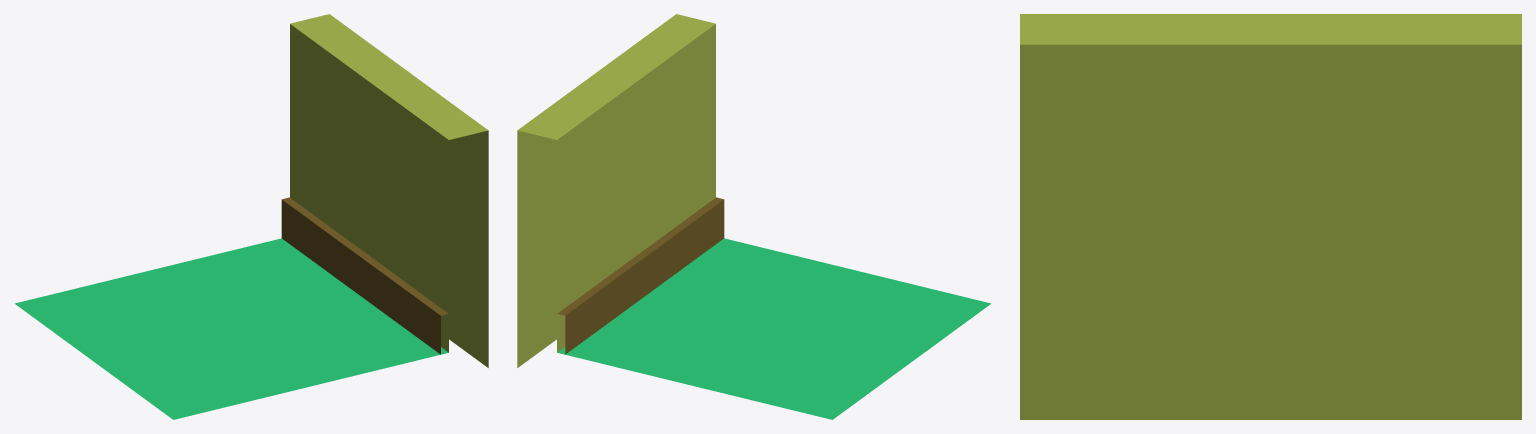
Rendered from ModuleSC_Terr_centerB001.FBX.
3 renders of one model, left to right at view 1: azimuth 30°, elevation 25°; view 2: azimuth 150°, elevation 25°; view 3: azimuth 270°, elevation 25°, orthographic. The views are drawn at different scales.
Visible parts, largest first — view 1: ModuleSC_Terr_wall_005, ModuleSC_Terr_floo_007, ModuleSC_Terr_floo_006, ModuleSC_Terr_skboard_005; view 2: ModuleSC_Terr_wall_005, ModuleSC_Terr_floo_007, ModuleSC_Terr_floo_006, ModuleSC_Terr_skboard_005; view 3: ModuleSC_Terr_wall_005.
Boxes of the visible parts, x1,y1,x2,y2 form: ModuleSC_Terr_wall_005: [290, 14, 488, 367]; ModuleSC_Terr_floo_007: [14, 270, 310, 419]; ModuleSC_Terr_floo_006: [152, 238, 448, 386]; ModuleSC_Terr_skboard_005: [281, 197, 448, 354]; ModuleSC_Terr_wall_005: [517, 14, 715, 367]; ModuleSC_Terr_floo_007: [695, 270, 991, 419]; ModuleSC_Terr_floo_006: [557, 238, 853, 386]; ModuleSC_Terr_skboard_005: [557, 197, 724, 354]; ModuleSC_Terr_wall_005: [1020, 14, 1521, 419].
Bounding box in the file's own units: 45.05 × 32.49 × 39.37.
